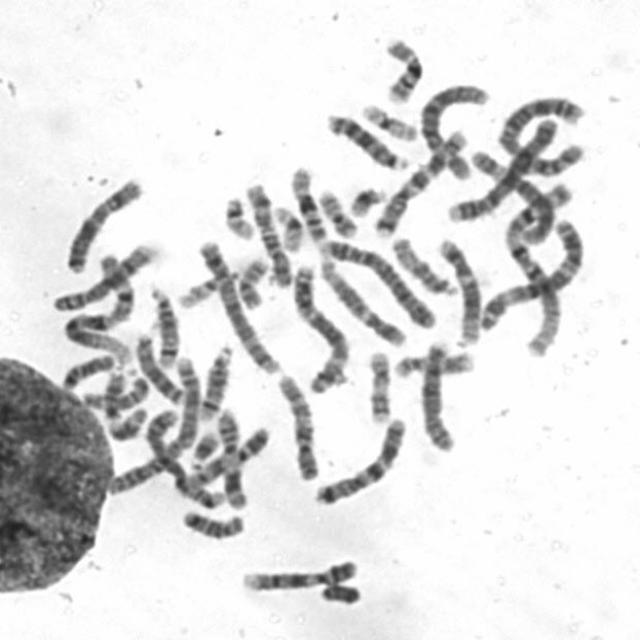A1: (474, 171, 580, 341), (56, 236, 142, 364)
A2: (103, 350, 202, 498), (492, 87, 591, 178)
A3: (472, 211, 588, 331), (286, 256, 352, 394)
B4: (441, 111, 562, 224), (315, 230, 440, 331)
B5: (193, 232, 283, 375), (140, 404, 228, 510)
C10: (239, 176, 296, 289), (271, 365, 323, 483)
C11: (210, 401, 250, 510), (97, 363, 149, 442)
C12: (313, 246, 411, 349), (431, 231, 485, 348)
C6: (464, 142, 559, 245), (411, 75, 492, 181)
C7: (366, 121, 472, 238), (306, 410, 410, 508)
C8: (46, 236, 162, 313), (416, 333, 459, 454)
C9: (181, 419, 274, 489), (235, 551, 362, 594)
D13: (319, 105, 412, 172), (127, 325, 188, 407)
D14: (192, 338, 237, 422), (143, 278, 182, 369)
D15: (385, 229, 461, 297), (75, 369, 152, 411)
E16: (283, 158, 332, 245), (376, 29, 426, 104)
E17: (387, 344, 477, 379), (360, 342, 396, 426)
E18: (56, 347, 118, 391), (175, 503, 248, 540)
F19: (352, 95, 420, 143), (267, 197, 305, 253)
F20: (311, 182, 361, 238), (232, 249, 271, 311)
G21: (343, 178, 390, 218), (184, 422, 222, 470)
G22: (172, 261, 244, 310), (217, 189, 259, 242)
X: (58, 169, 147, 274)
Y: (313, 576, 365, 606)
